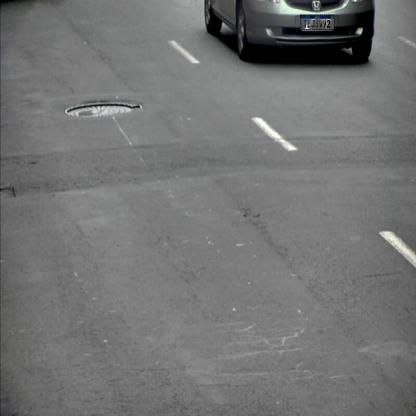PlacaM: (300, 14, 334, 30)
